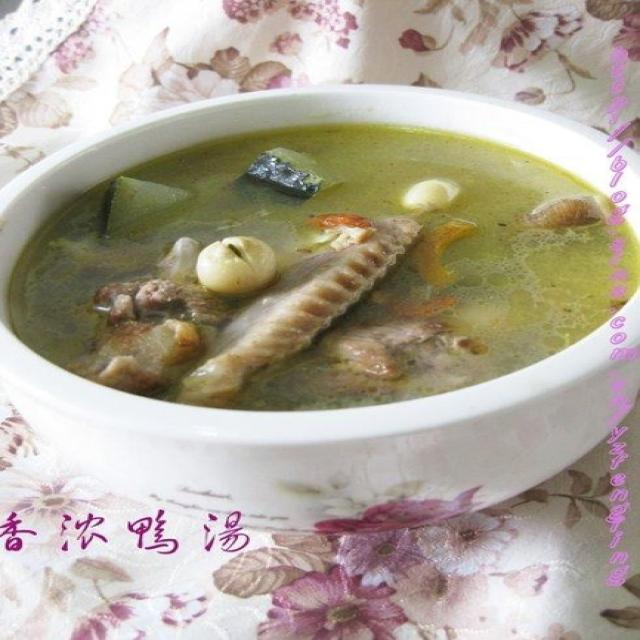汤锅炖物: (13, 74, 627, 555)
